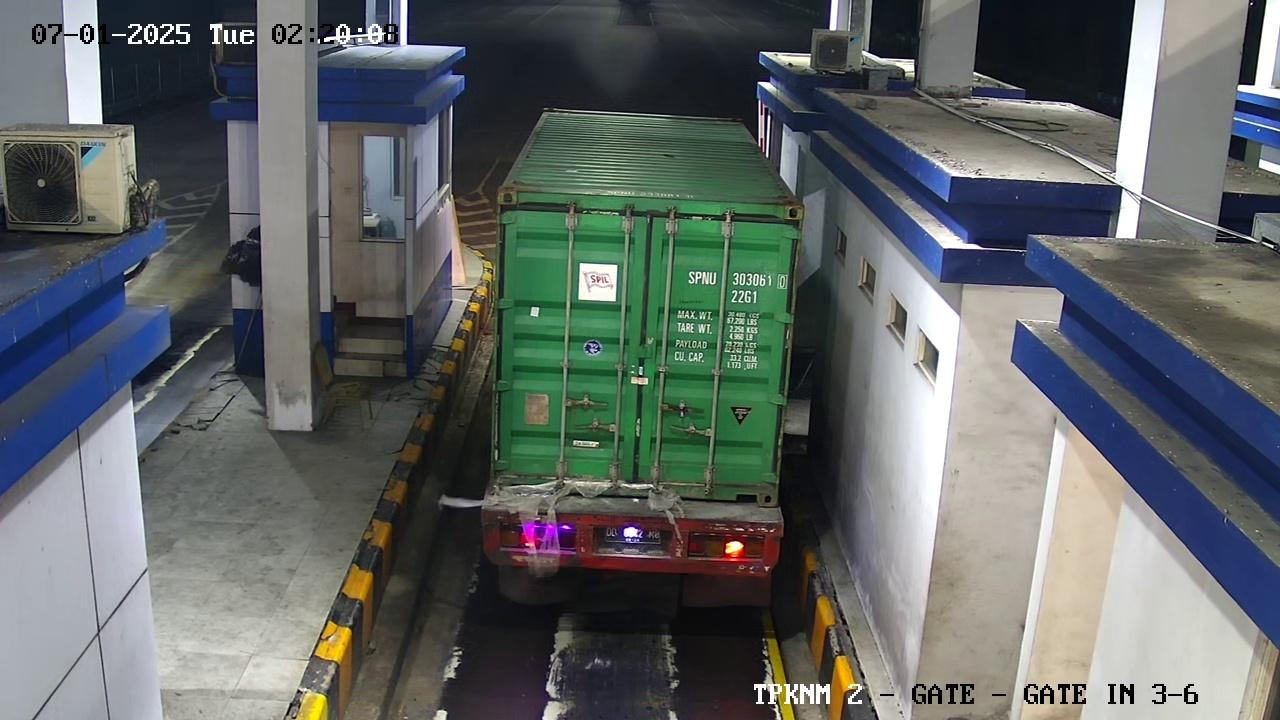Container_ID: (677, 265, 793, 312)
plate_number: (596, 522, 668, 548)
